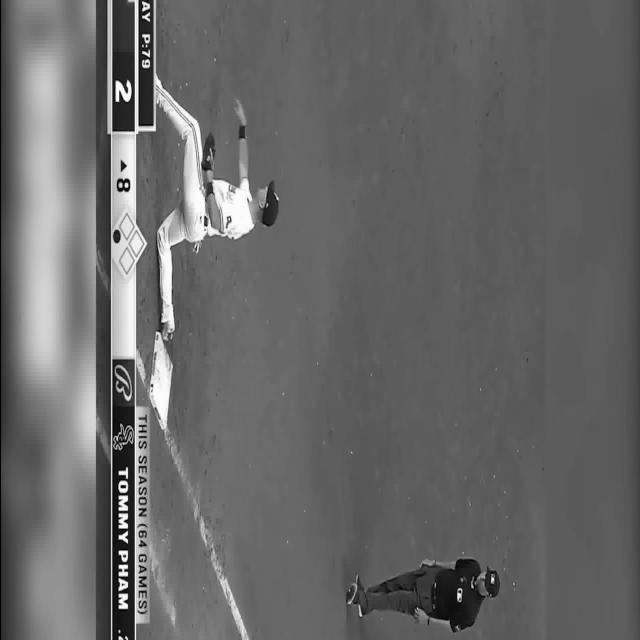base: (148, 331, 171, 431)
baseball_glove: (200, 133, 215, 171)
shoe: (345, 582, 359, 607), (160, 322, 174, 342), (354, 573, 362, 591), (356, 605, 362, 618)
